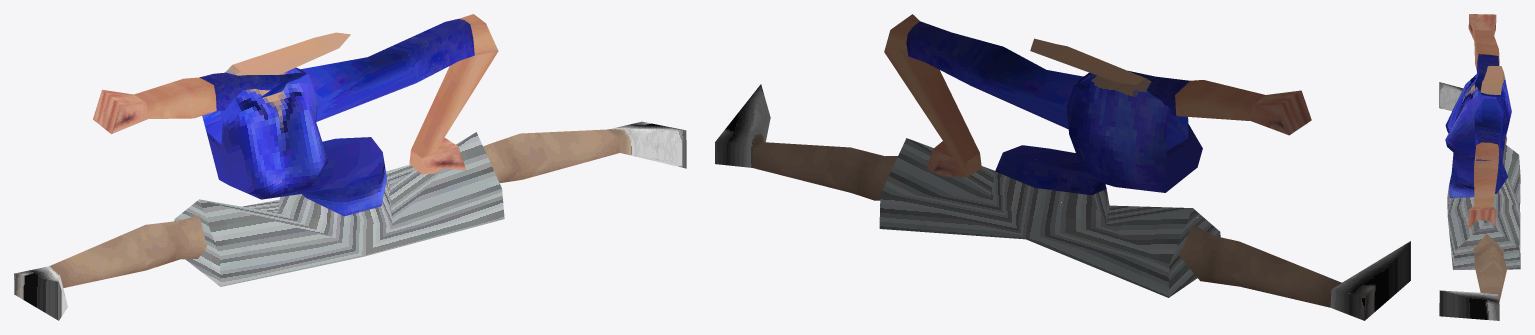
Rendered from CbluewomanZ.obj.
3 renders of one model, left to right at view 1: azimuth 30°, elevation 25°; view 2: azimuth 150°, elevation 25°; view 3: azimuth 270°, elevation 25°, orthographic. The views are drawn at different scales.
Bounding box in the file's own units: 1910 × 575 × 316.
13 materials, 13 textured.
